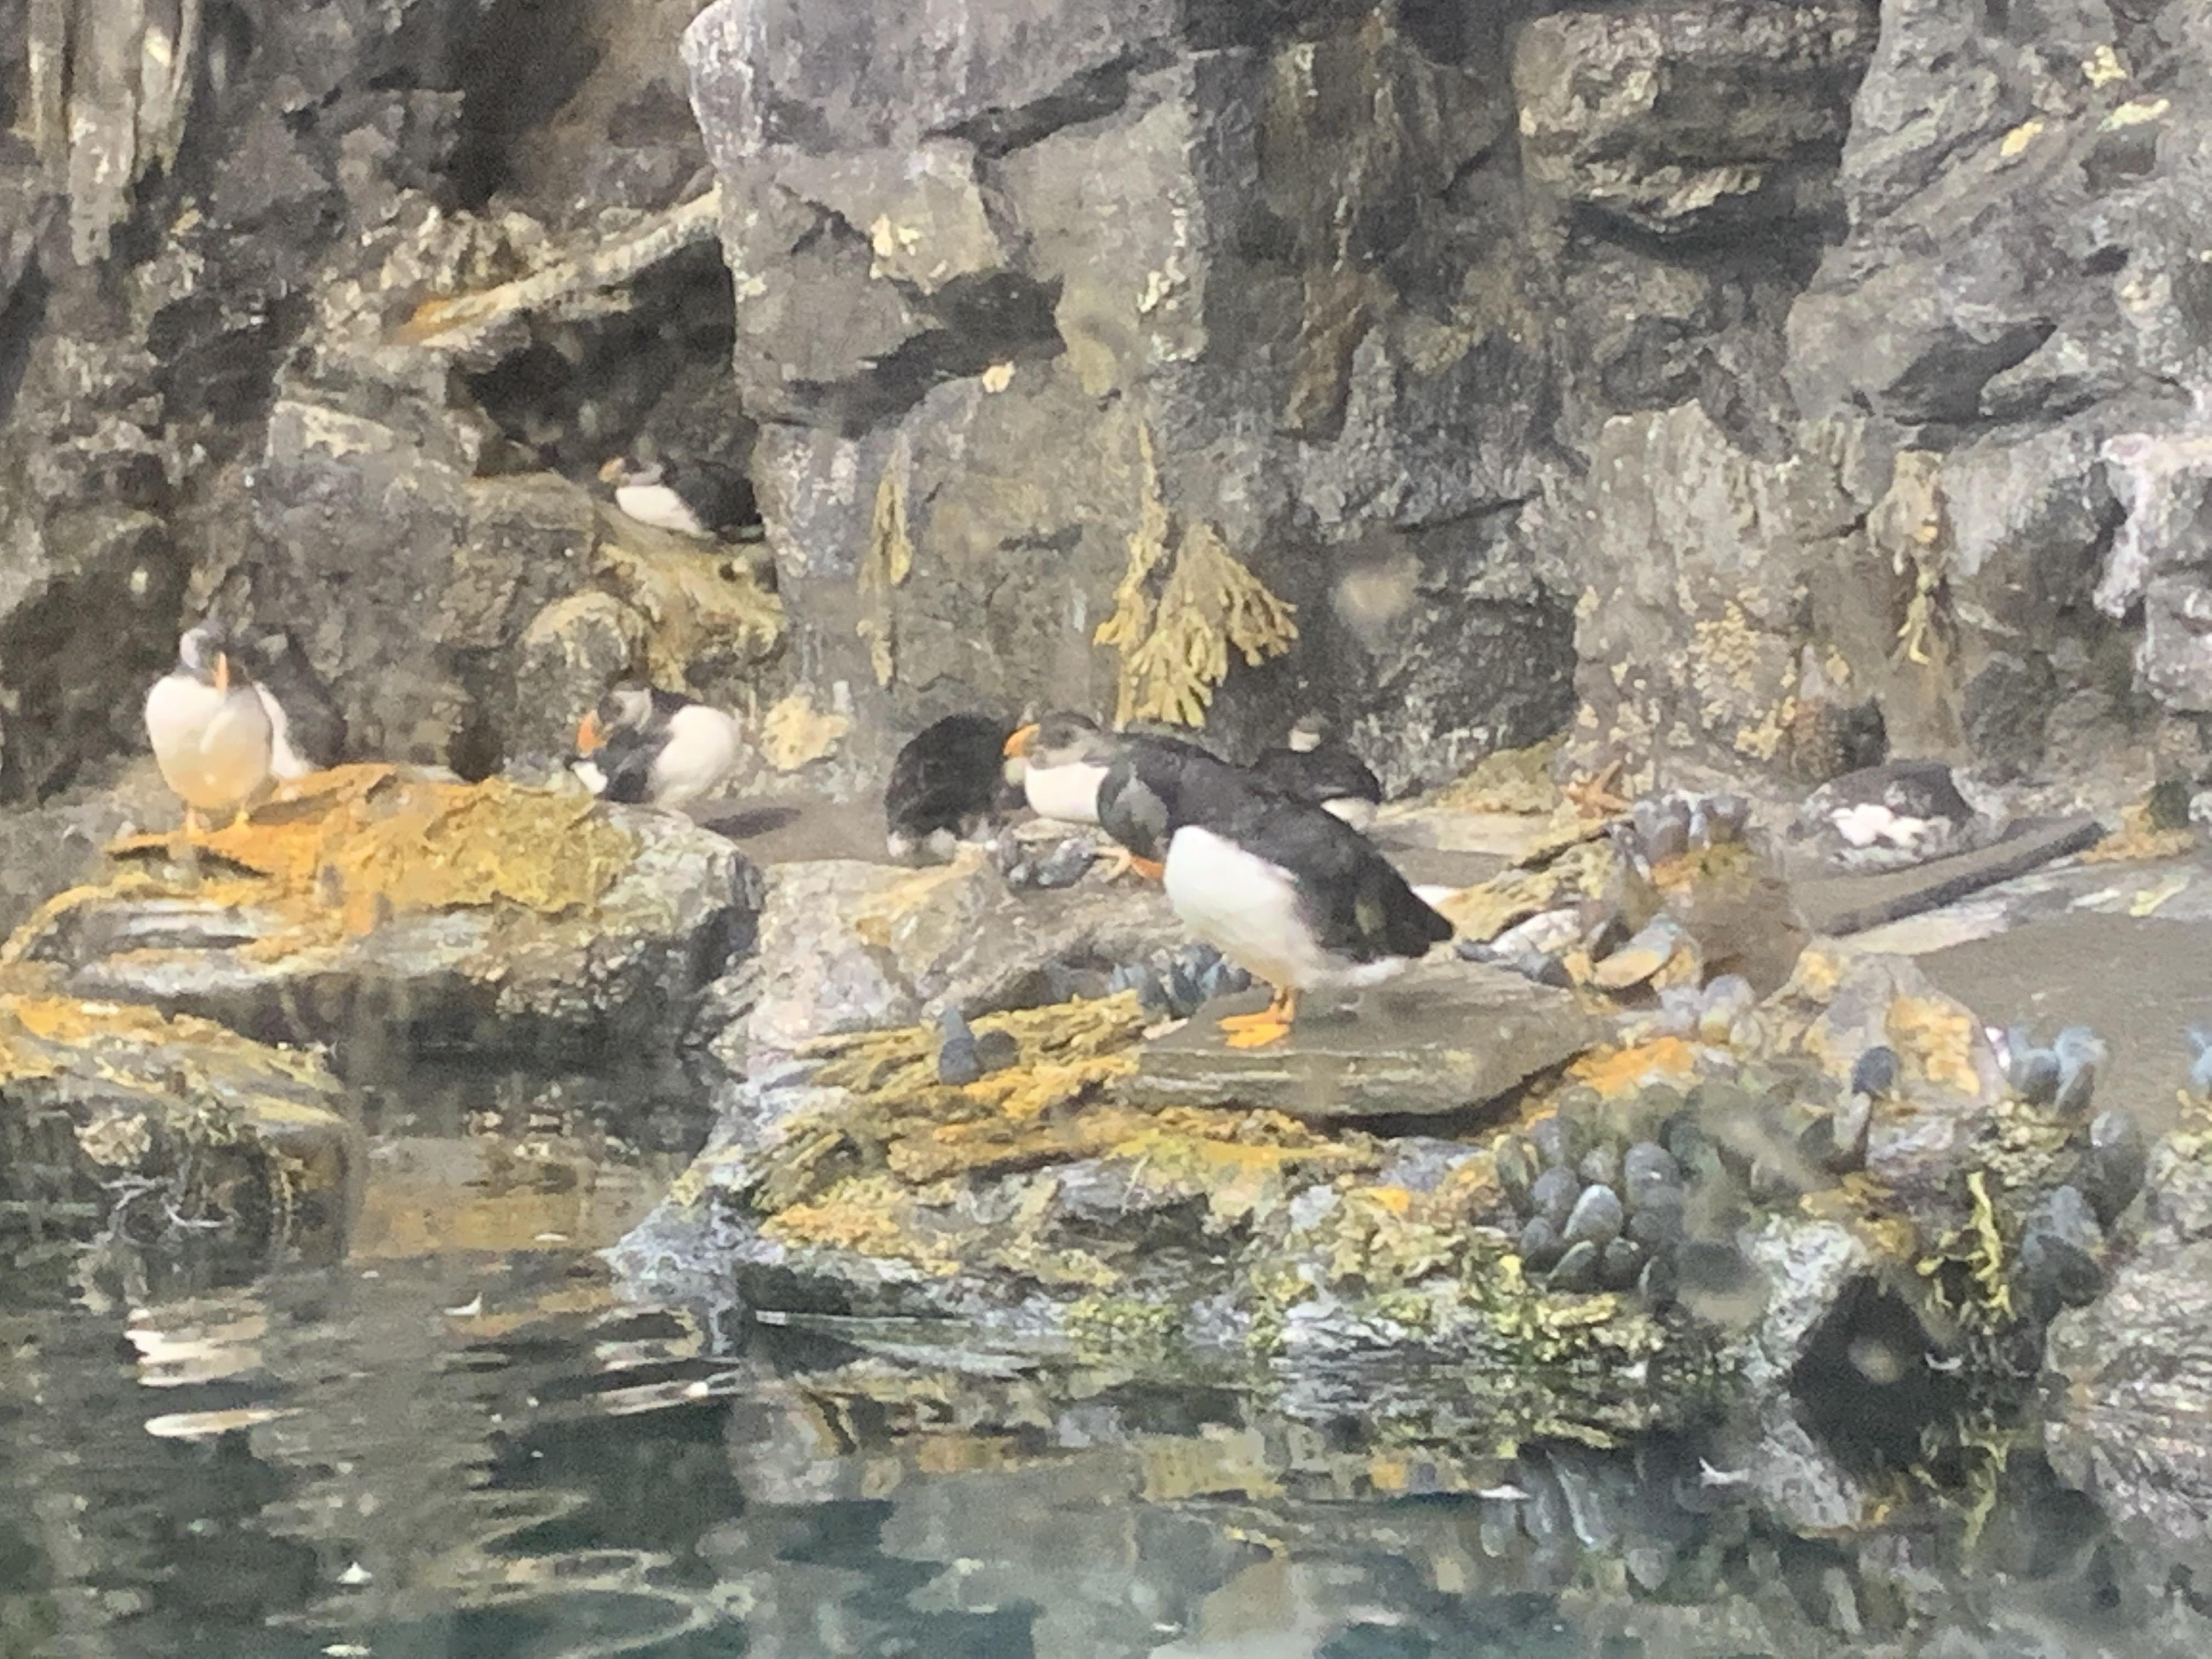puffin: (1123, 765, 1460, 1065), (1003, 711, 1277, 863), (136, 619, 284, 847), (563, 673, 744, 830), (594, 437, 772, 558), (237, 612, 355, 788), (1247, 709, 1385, 845)
